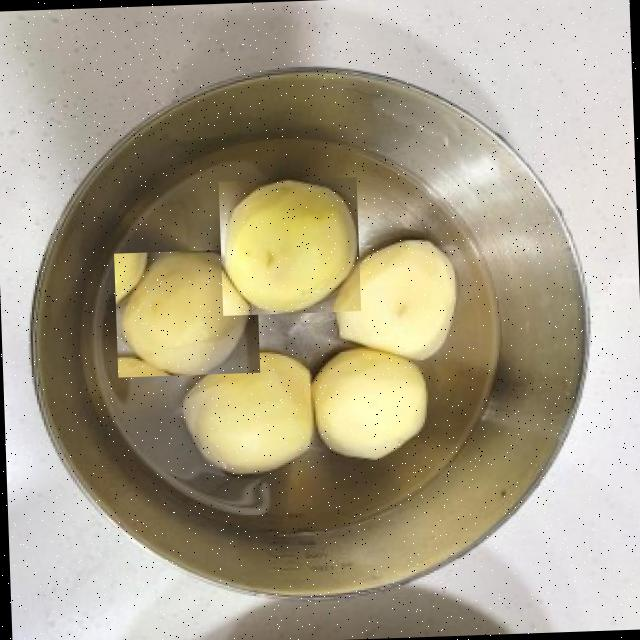Potato: (217, 177, 360, 316), (176, 348, 322, 478), (112, 248, 258, 377), (333, 232, 462, 362), (312, 345, 431, 462)
